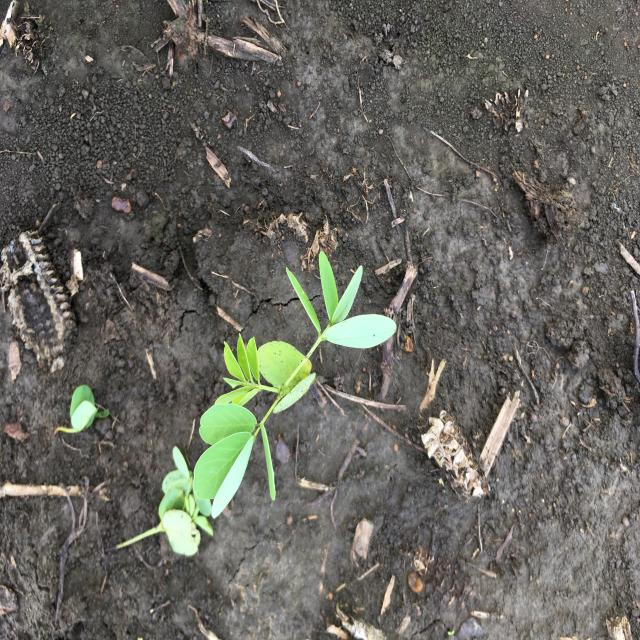Sicklepod: (109, 249, 400, 560)
